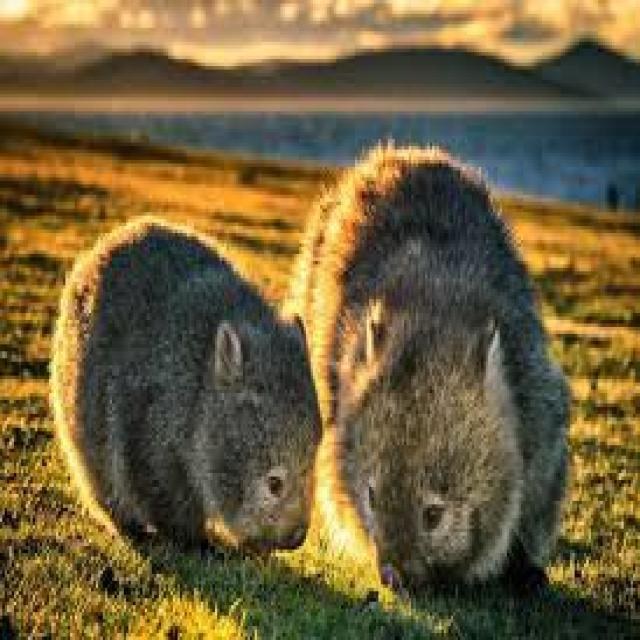Wombat: (301, 144, 574, 608), (48, 209, 320, 575)
